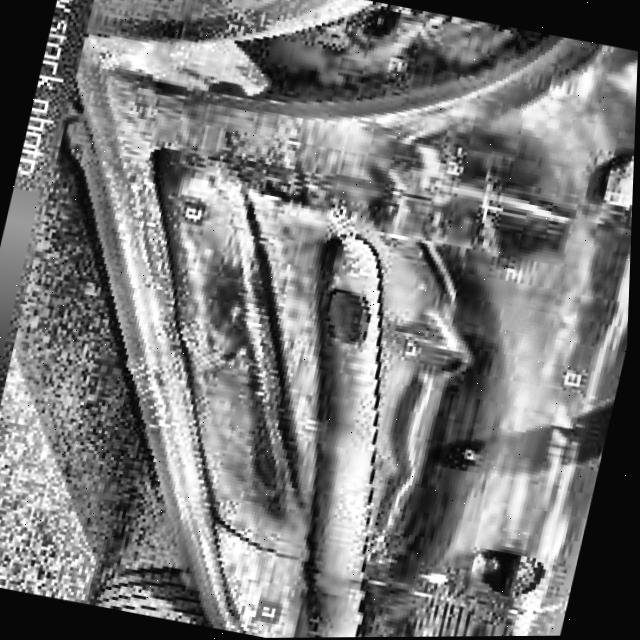door_dent: (218, 202, 527, 571)
